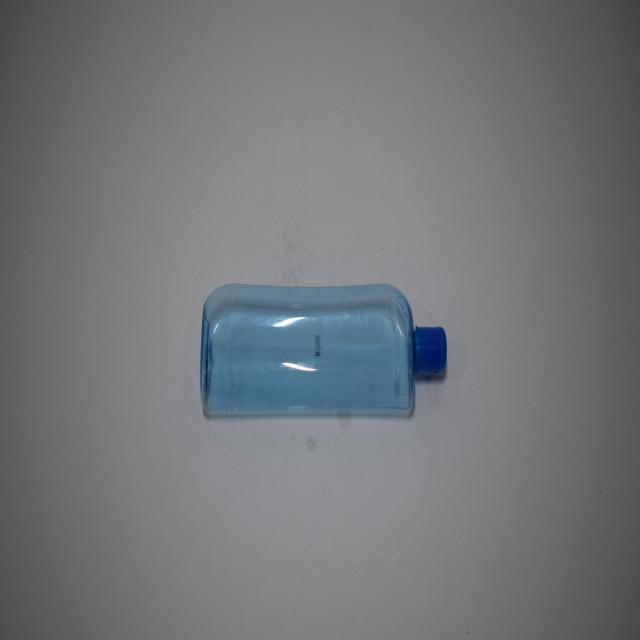empty: (200, 284, 447, 413)
